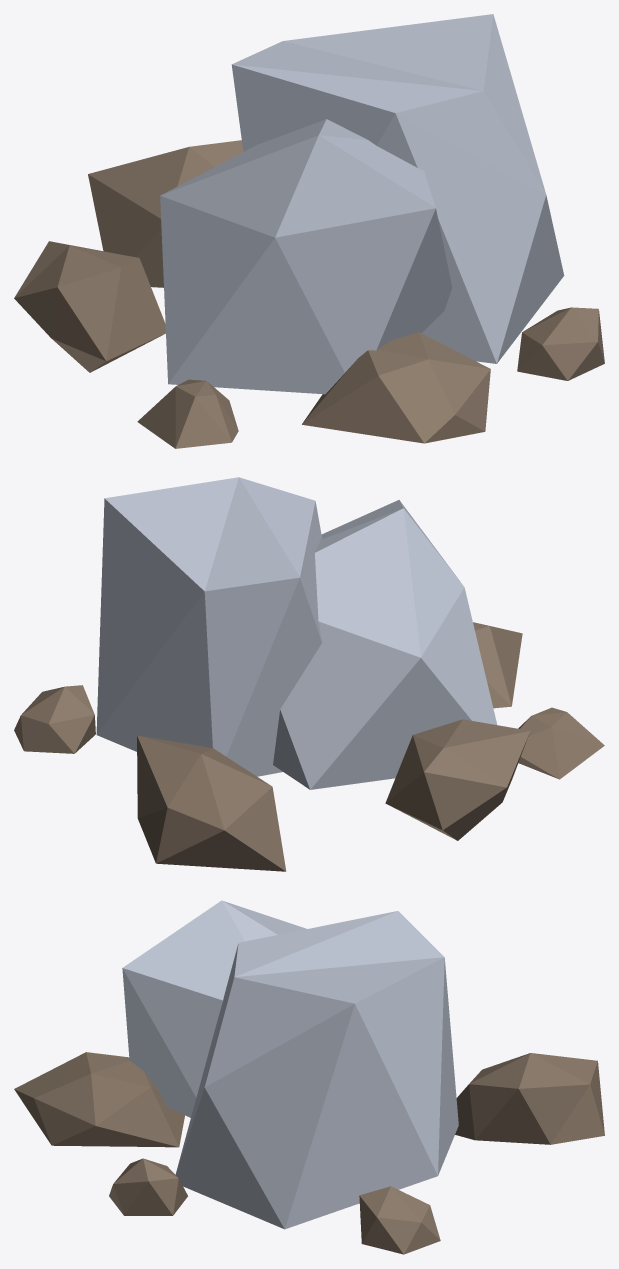
The model's file is Iron.fbx.
The picture shows the model from 3 angles, top to bottom: view 1: azimuth 30°, elevation 25°; view 2: azimuth 150°, elevation 25°; view 3: azimuth 270°, elevation 25°; orthographic projection. The views are drawn at different scales.
Visible parts, largest first — view 1: Icosphere.006, Icosphere.007, Icosphere, Icosphere.005, Icosphere.002, Icosphere.003, Icosphere.001; view 2: Icosphere.007, Icosphere.006, Icosphere.002, Icosphere.005, Icosphere.004, Icosphere.001, Icosphere; view 3: Icosphere.007, Icosphere.006, Icosphere, Icosphere.002, Icosphere.004, Icosphere.003.
Part boxes in pixels (<box>): Icosphere.006: <box>160,119,452,394</box>; Icosphere.007: <box>231,14,564,363</box>; Icosphere: <box>302,332,490,443</box>; Icosphere.005: <box>14,241,165,372</box>; Icosphere.002: <box>88,140,243,287</box>; Icosphere.003: <box>517,307,604,380</box>; Icosphere.001: <box>137,379,238,448</box>; Icosphere.007: <box>96,477,322,776</box>; Icosphere.006: <box>273,500,497,789</box>; Icosphere.002: <box>137,735,286,871</box>; Icosphere.005: <box>385,719,530,840</box>; Icosphere.004: <box>14,685,95,753</box>; Icosphere.001: <box>518,707,604,779</box>; Icosphere: <box>473,622,522,708</box>; Icosphere.007: <box>175,911,458,1229</box>; Icosphere.006: <box>122,900,306,1117</box>; Icosphere: <box>14,1052,184,1147</box>; Icosphere.002: <box>455,1053,604,1144</box>; Icosphere.004: <box>359,1186,440,1254</box>; Icosphere.003: <box>109,1158,187,1215</box>.
Bounding box in the file's own units: 520 × 253 × 569.
